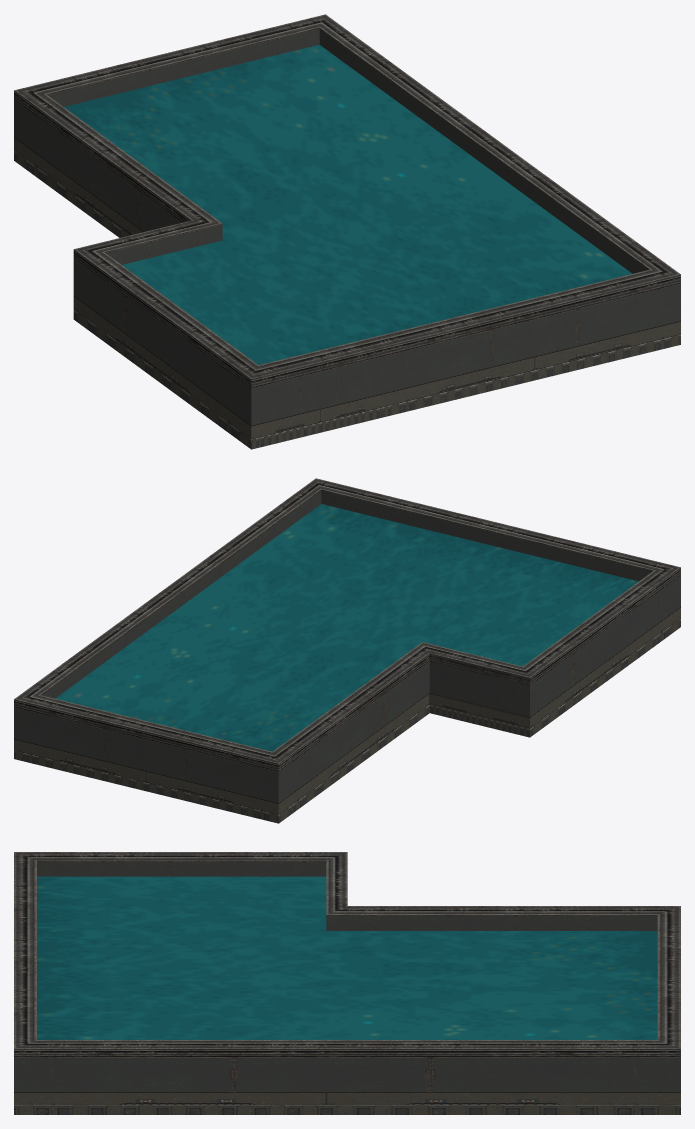
Rendered from pool_01.obj.
3 renders of one model, top to bottom at view 1: azimuth 30°, elevation 25°; view 2: azimuth 150°, elevation 25°; view 3: azimuth 270°, elevation 25°, orthographic. The views are drawn at different scales.
Visible parts, largest first — view 1: Box080; view 2: Box080; view 3: Box080.
Boxes of the visible parts, x1,y1,x2,y2 form: Box080: (14, 14, 680, 449); Box080: (14, 478, 680, 823); Box080: (14, 852, 680, 1114).
Size of the model in its own units: 55.03 by 8.65 by 78.84.
